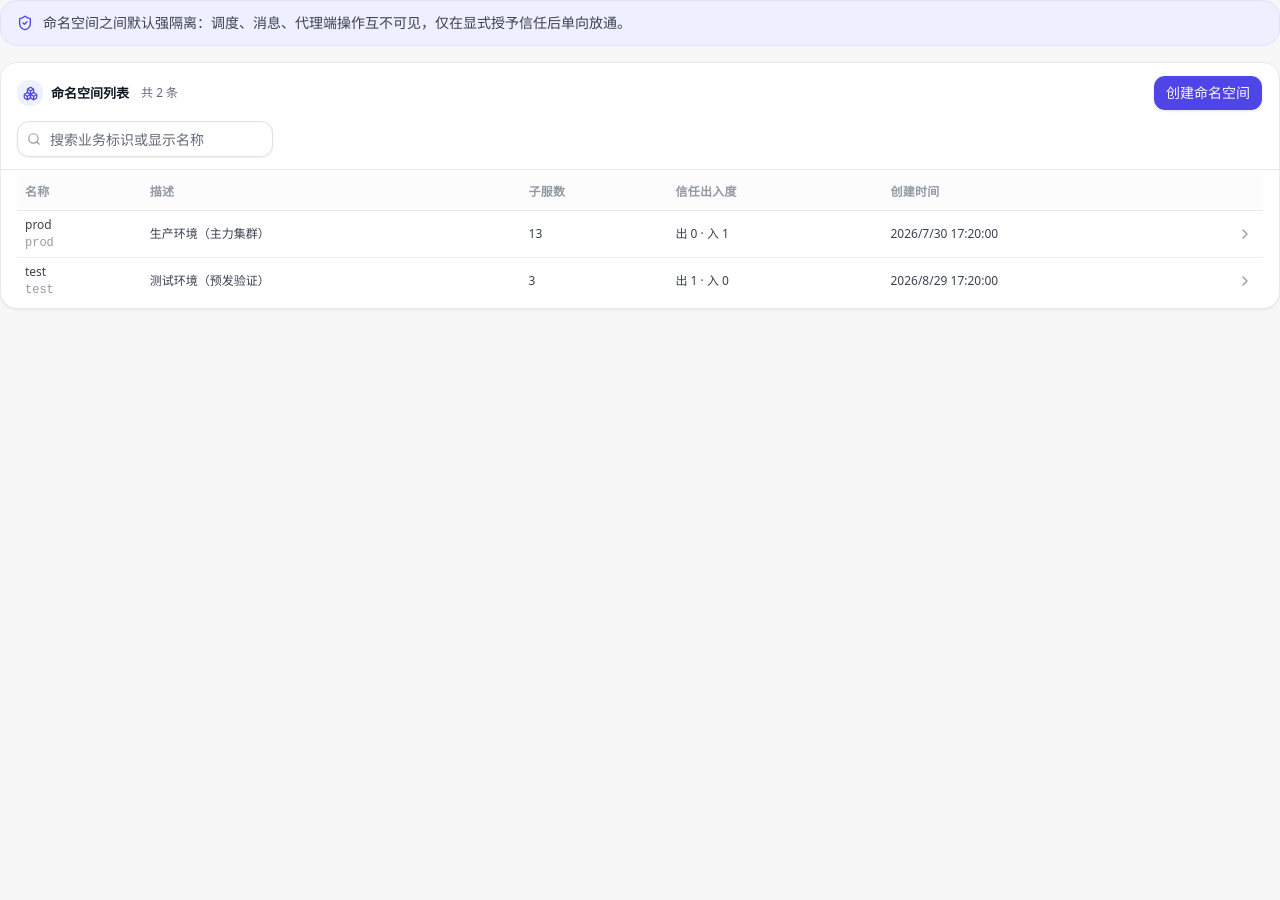
it: /namespaces 页 › 轮换接入 token 须手输 code 二次确认，成功后一次性展示新明文（写闭环）
Expected: the text "test" is shown, [25,262,46,280]
Click the text "test". click: (210, 280)
box: [17,257,1263,304]
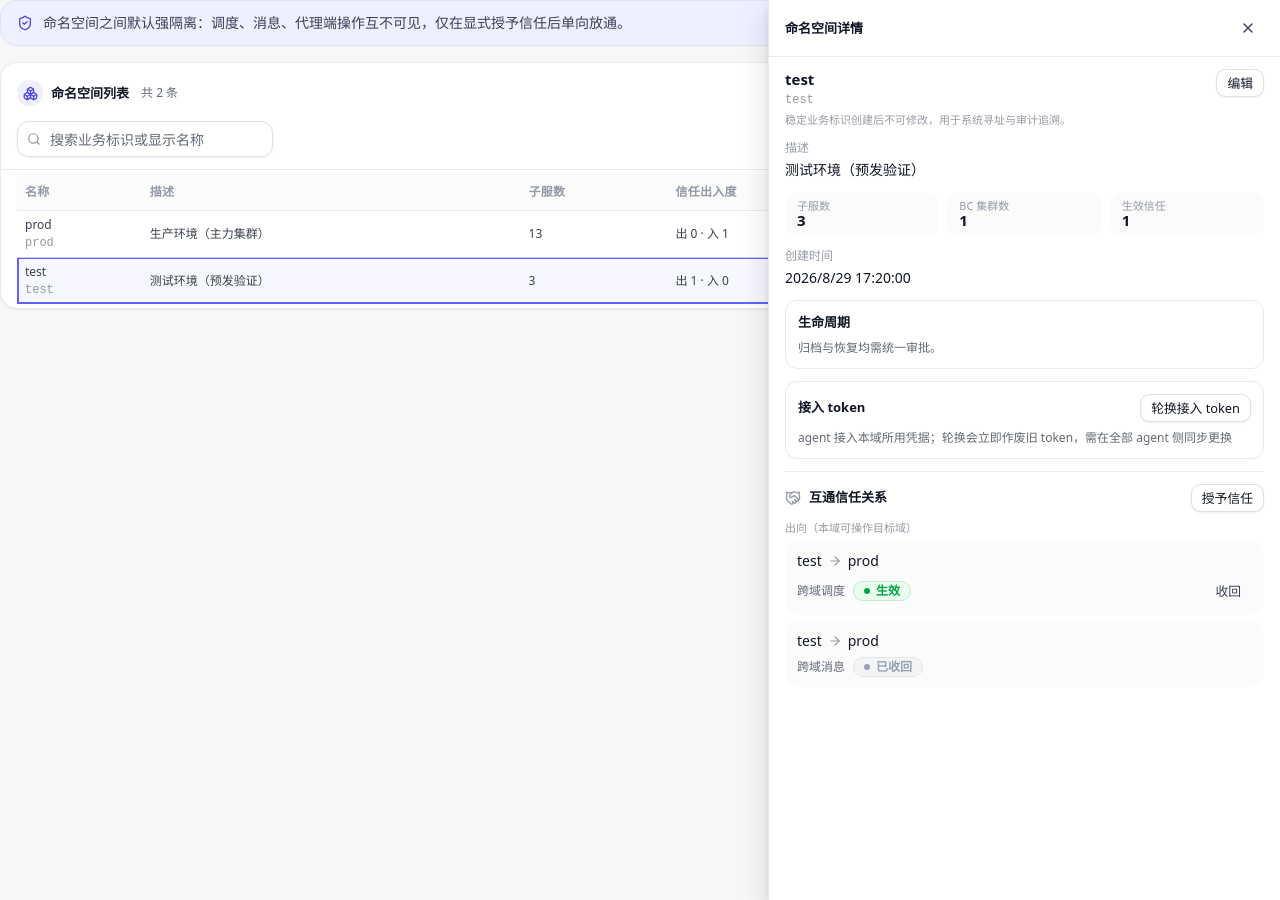
Click the button "轮换接入 token". click: (1196, 408)
box: [1140,394,1251,422]
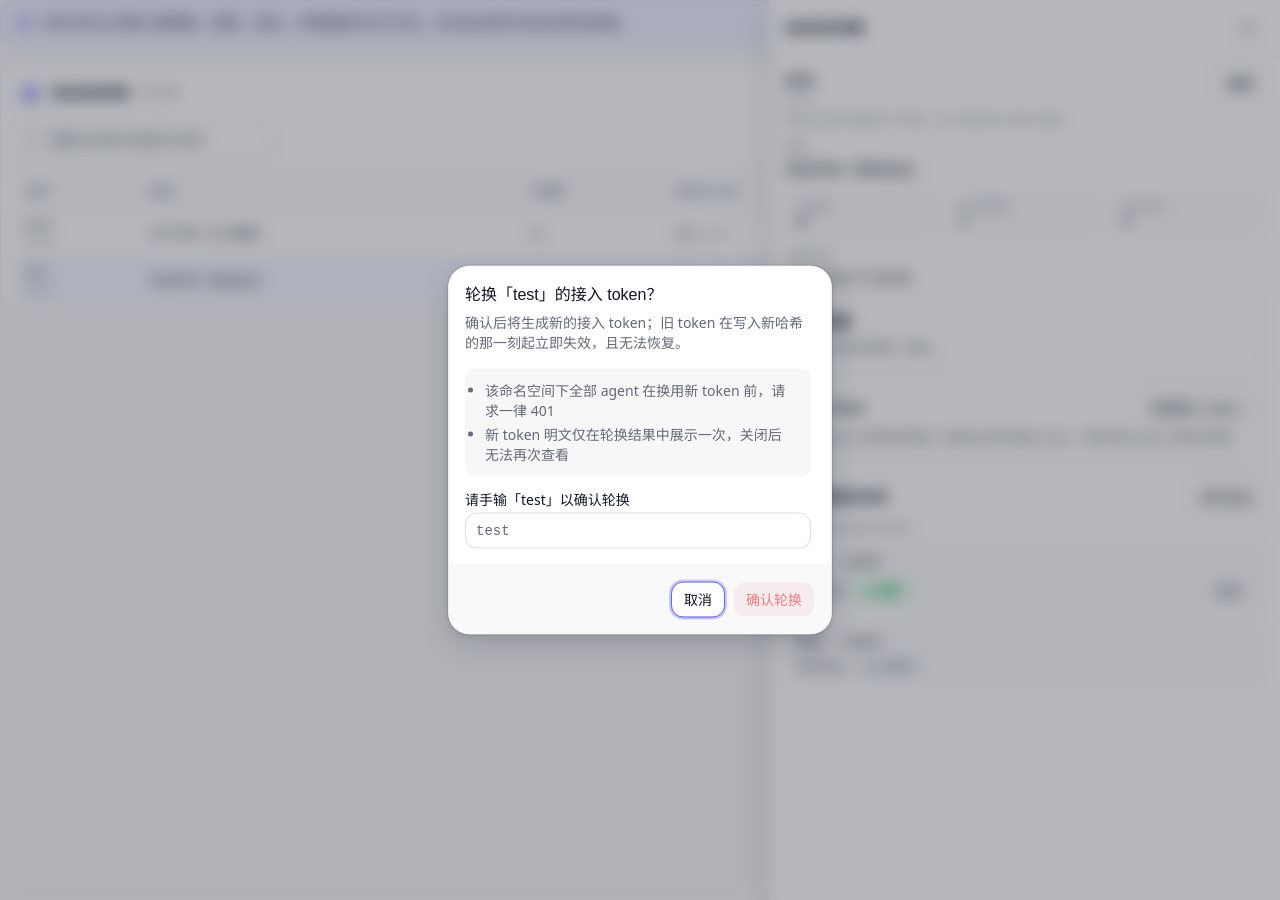
Expected: the text "确认后将生成新的接入 token；旧 token 在写入新哈希的那一刻起立即失效，且无法恢复。" is shown, [465,312,815,352]
Expected: the list item "该命名空间下全部 agent 在换用新 token 前，请求一律 401" is shown, [485,380,791,420]
Expected: the button "确认轮换" is disabled, [733,582,815,618]
Type "wrong" into the field named "输入命名空间 code 以确认轮换". click: (638, 530)
box: [465,512,811,548]
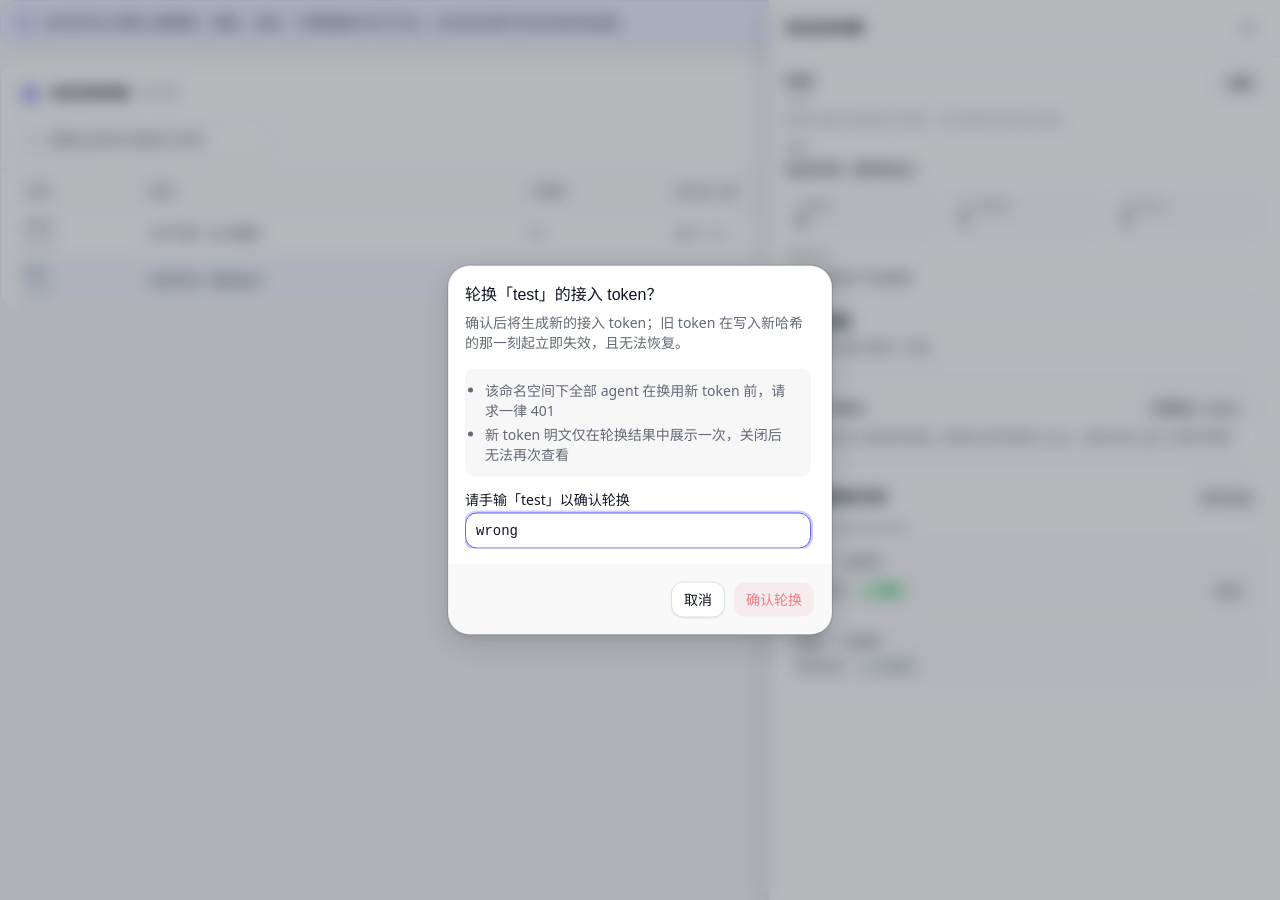
Expected: the button "确认轮换" is disabled, [733,582,815,618]
// 输对 code 放行 → 轮换结果复用一次性 token 弹窗展示新明文
Replace the text in the field named "输入命名空间 code 以确认轮换" with "test". click: (638, 530)
box: [465,512,811,548]
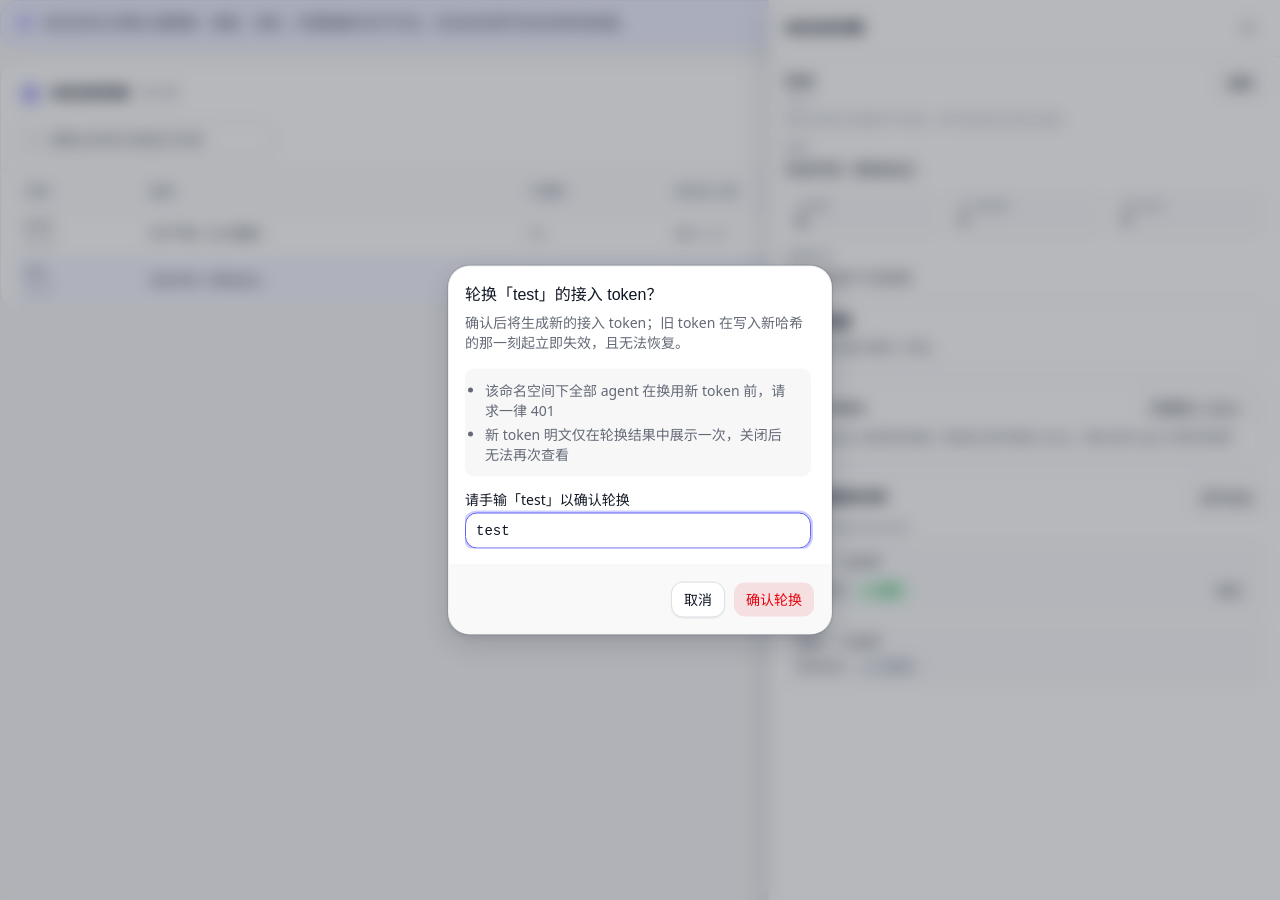
Expected: the button "确认轮换" is enabled
Click the button "确认轮换". click: (774, 600)
box: [733,582,815,618]
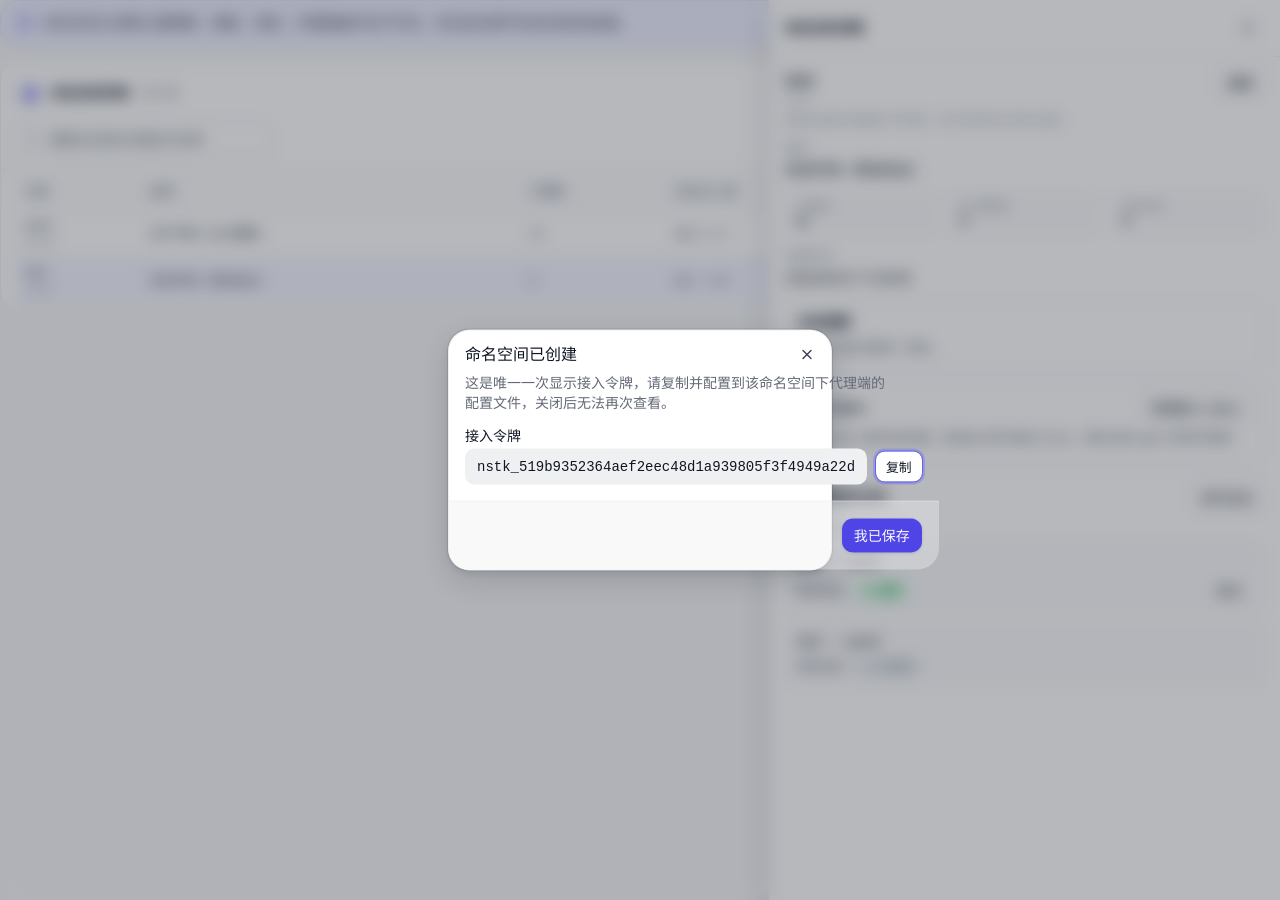
Expected: the text "nstk_" is shown, [477,458,855,474]
